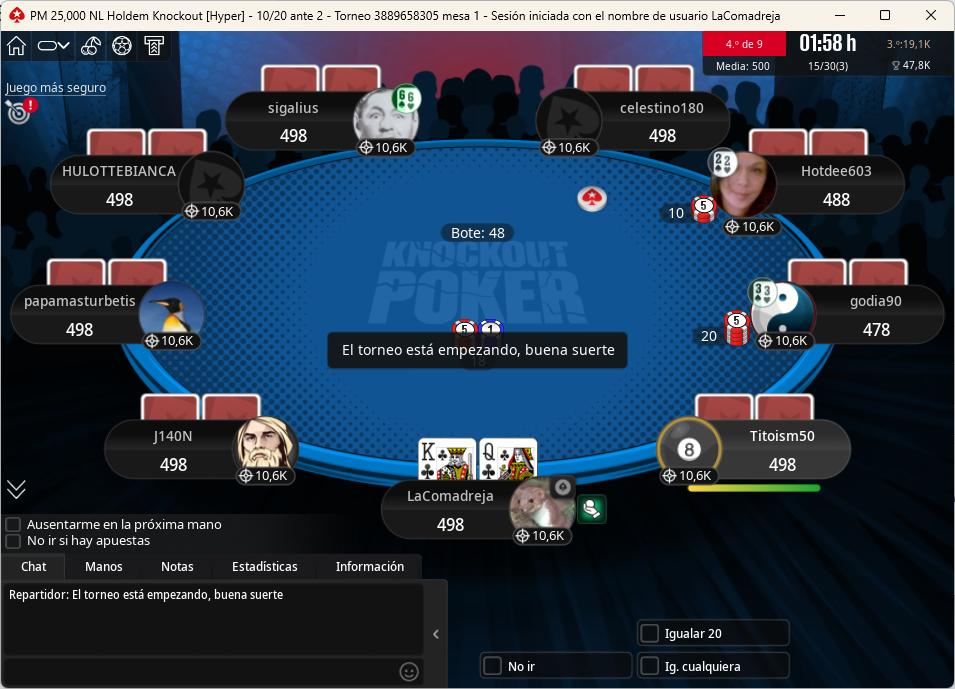Dealer: (575, 185, 609, 213)
HiddenCards: (751, 130, 879, 161), (83, 130, 208, 161), (693, 392, 818, 422), (139, 392, 265, 421), (572, 66, 697, 95), (786, 257, 910, 286), (259, 66, 383, 95), (45, 257, 172, 285)
Player: (710, 150, 911, 218), (104, 419, 302, 488), (749, 281, 945, 350), (226, 86, 423, 154), (654, 419, 851, 487), (49, 152, 245, 218), (13, 283, 209, 349), (543, 93, 732, 158)
PlayerBet: (689, 307, 755, 349), (663, 196, 722, 230)
PlayerChips: (860, 321, 899, 342), (100, 190, 140, 210), (63, 321, 103, 341), (818, 190, 858, 210), (765, 455, 805, 475), (645, 126, 687, 145), (274, 127, 313, 147), (157, 454, 194, 475)
PreButtonCall: (638, 614, 797, 649)
PreButtonCallAny: (633, 648, 794, 685)
PreButtonFold: (476, 646, 637, 681)
PrincipalCards: (419, 437, 544, 485)
PrincipalCards1: (417, 437, 478, 483)
PrincipalCards2: (479, 435, 543, 483)
PrincipalPlayer: (379, 470, 582, 555)
PrincipalPlayerChips: (429, 516, 470, 536)
SmallBigBlind: (246, 8, 335, 28)
